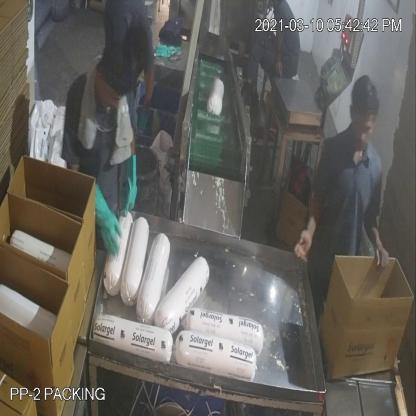glove: (85, 176, 122, 262), (119, 148, 142, 217)
no_glove: (282, 189, 336, 267), (365, 206, 393, 277)
